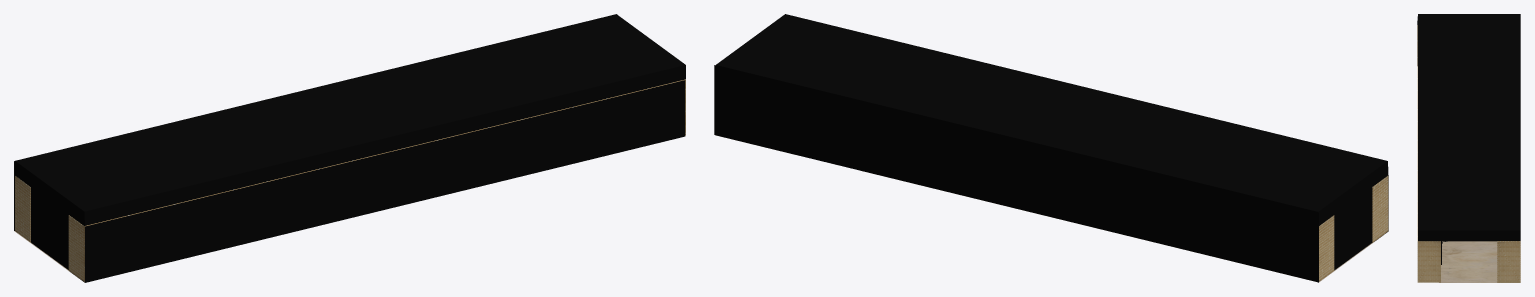
Rendered from apocalyptic_hospital_hallway_interior.glb.
The picture shows the model from 3 angles, left to right: view 1: azimuth 30°, elevation 25°; view 2: azimuth 150°, elevation 25°; view 3: azimuth 270°, elevation 25°; orthographic projection. The views are drawn at different scales.
Parts seen in each view (by area): view 1: Cube.013_29, Cube.010_21, Cube.006_16; view 2: Cube.013_29, Plane.010_11, Plane.006_7, Plane.009_10, Plane.008_9, Plane.007_8, Cube.010_21, Cube.006_16; view 3: Cube.013_29, Plane.001_1, Cube.012_23, Cube_6, Plane.002_2.
Boxes of the visible parts, bbox=[...] form: Cube.013_29: bbox=[15, 14, 685, 282]; Cube.010_21: bbox=[68, 197, 200, 281]; Cube.006_16: bbox=[15, 176, 30, 242]; Cube.013_29: bbox=[716, 14, 1388, 282]; Plane.010_11: bbox=[1117, 163, 1318, 282]; Plane.006_7: bbox=[714, 65, 815, 159]; Plane.009_10: bbox=[1016, 139, 1117, 233]; Plane.008_9: bbox=[916, 114, 1016, 208]; Plane.007_8: bbox=[815, 89, 915, 183]; Cube.010_21: bbox=[1372, 176, 1388, 242]; Cube.006_16: bbox=[1319, 215, 1334, 281]; Cube.013_29: bbox=[1417, 14, 1520, 241]; Plane.001_1: bbox=[1439, 246, 1497, 282]; Cube.012_23: bbox=[1417, 220, 1440, 282]; Cube_6: bbox=[1497, 241, 1520, 282]; Plane.002_2: bbox=[1442, 241, 1497, 246].
Bounding box in the file's own units: 31.23 × 3.51 × 6.29.
Materials: 19 (9 with a texture image).
